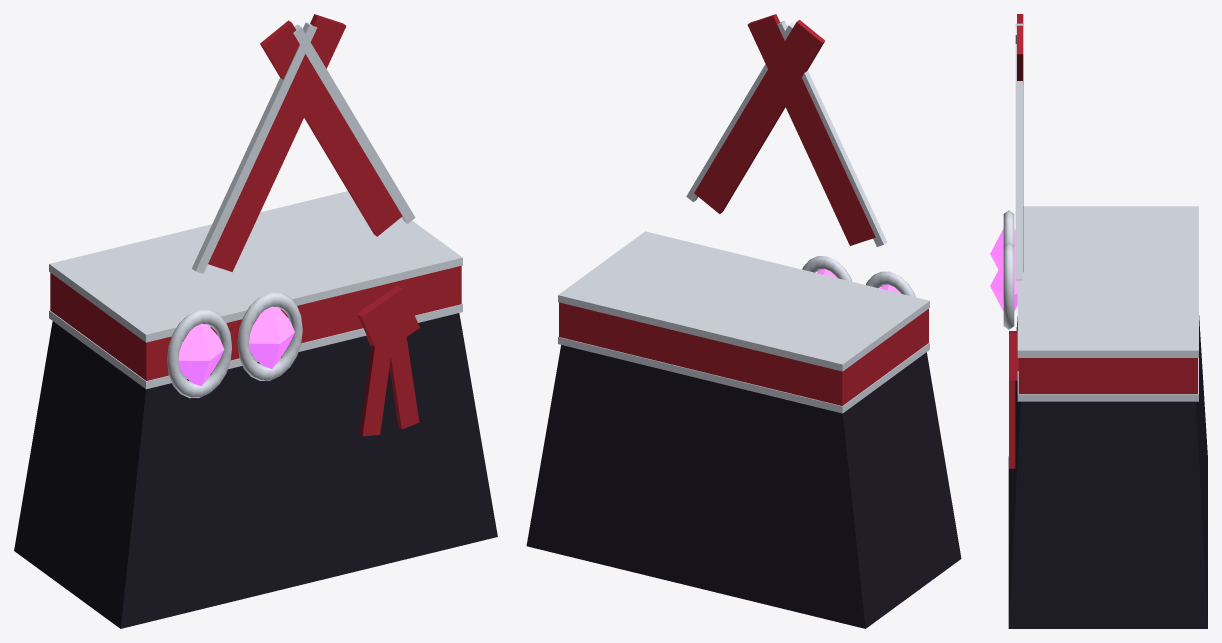
Rendered from eqf_eqko2.glb.
The picture shows the model from 3 angles, left to right: view 1: azimuth 30°, elevation 25°; view 2: azimuth 150°, elevation 25°; view 3: azimuth 270°, elevation 25°; orthographic projection. The views are drawn at different scales.
Bounding box in the file's own units: 2.54 × 3.6 × 1.36.
